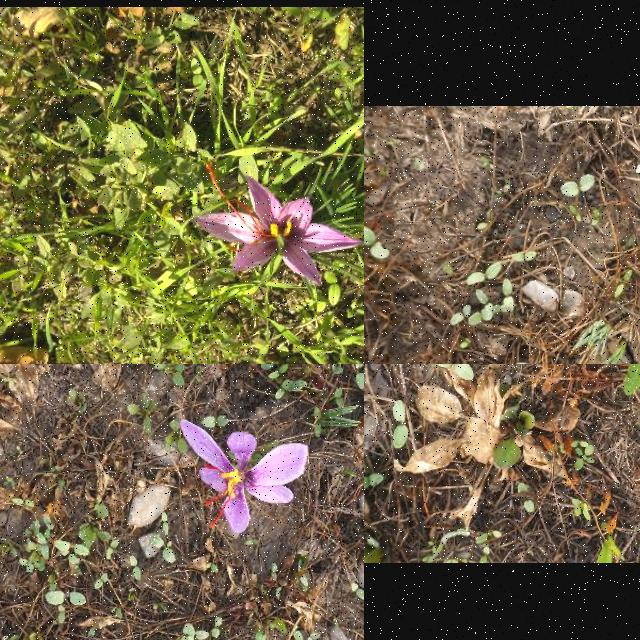flower: (196, 162, 364, 286), (180, 420, 308, 534)
